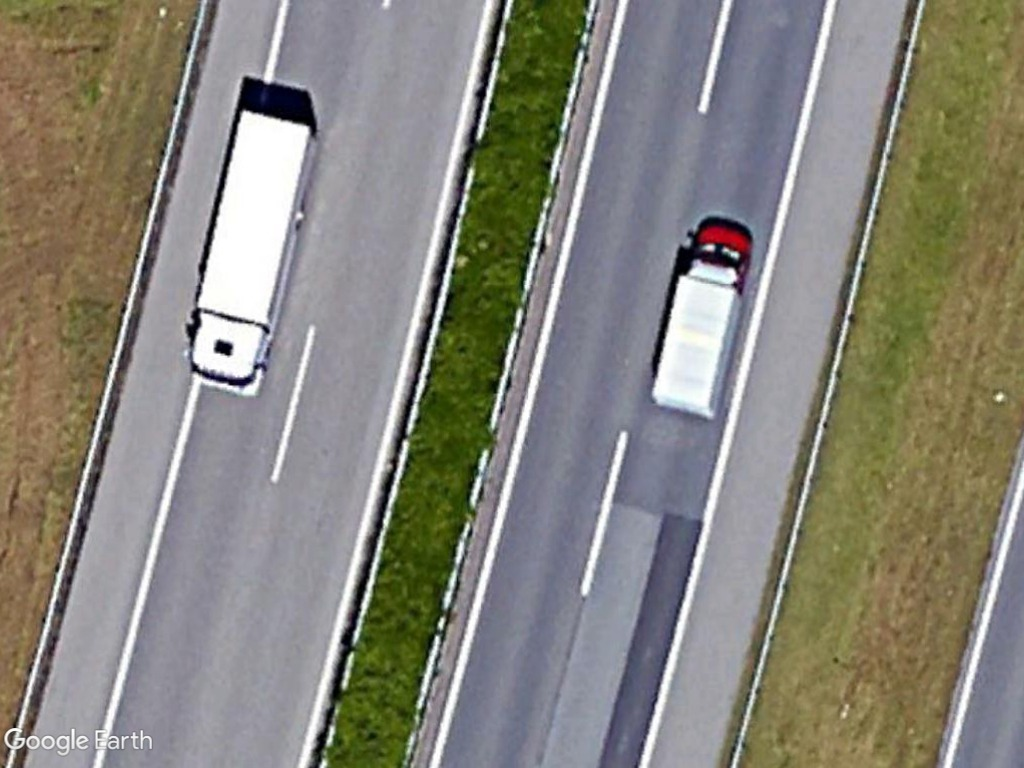truck: (187, 101, 318, 393), (642, 213, 762, 427)
